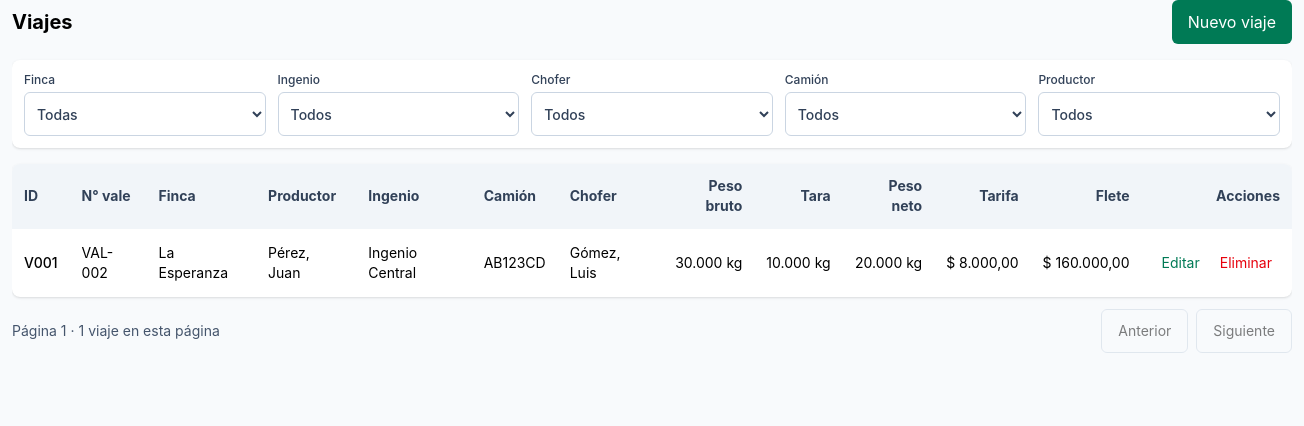
ViajesPage › aplica el filtro de finca y vuelve a la primera página
Select "El Sol" in the dropdown labelled "Finca". click: (145, 114)
box: [24,92,266,136]
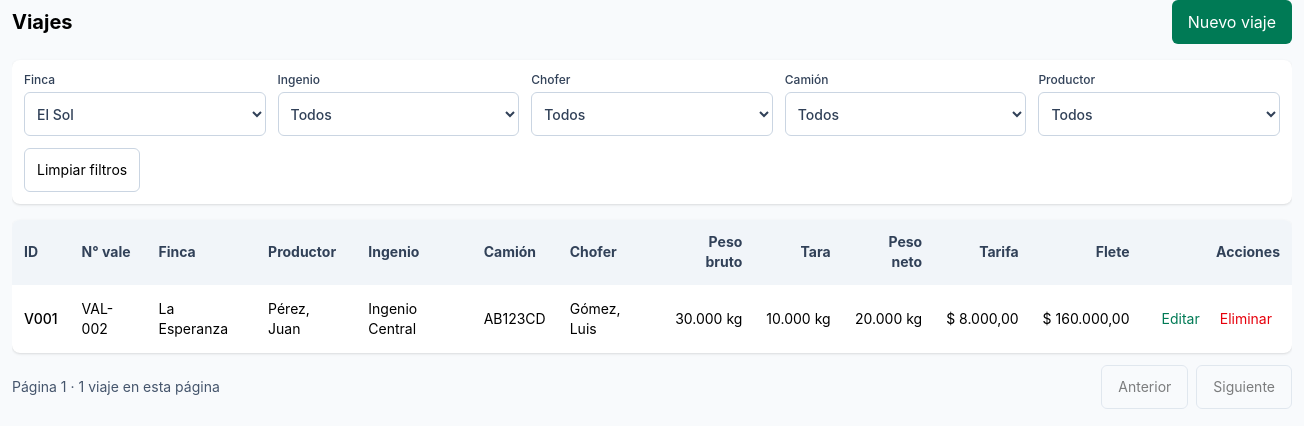
Now the button "Limpiar filtros" is shown, box [24,148,140,192]
